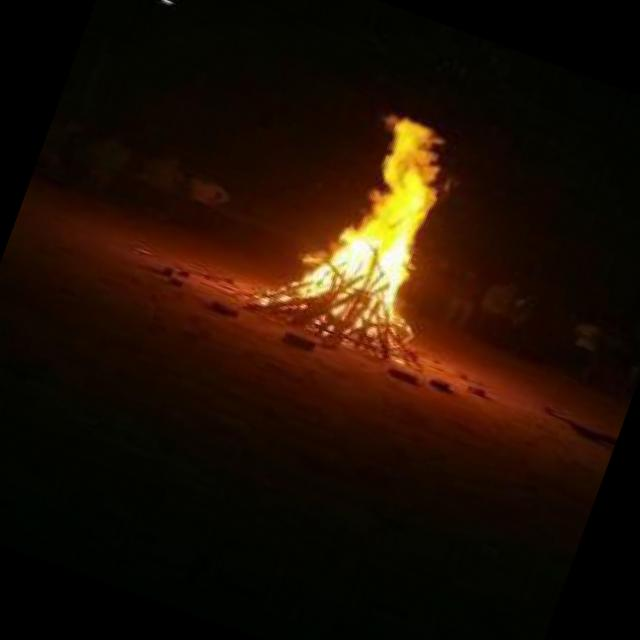fire: (268, 89, 477, 337)
